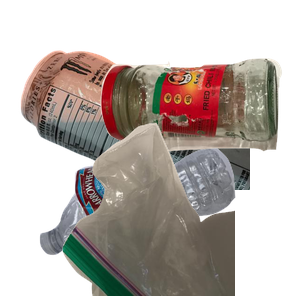glass: (98, 56, 300, 201)
metal: (18, 48, 258, 228)
plastic: (37, 144, 265, 300)
trash: (60, 120, 300, 300)
